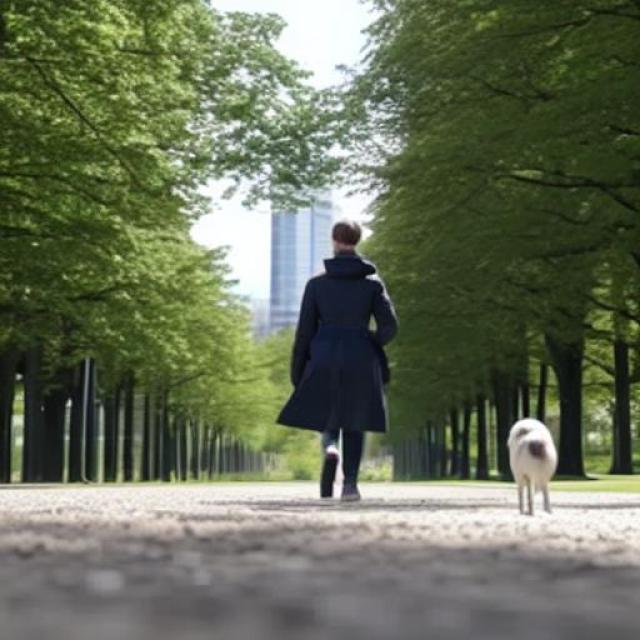Unleashed_Dog: (318, 418, 559, 516)
